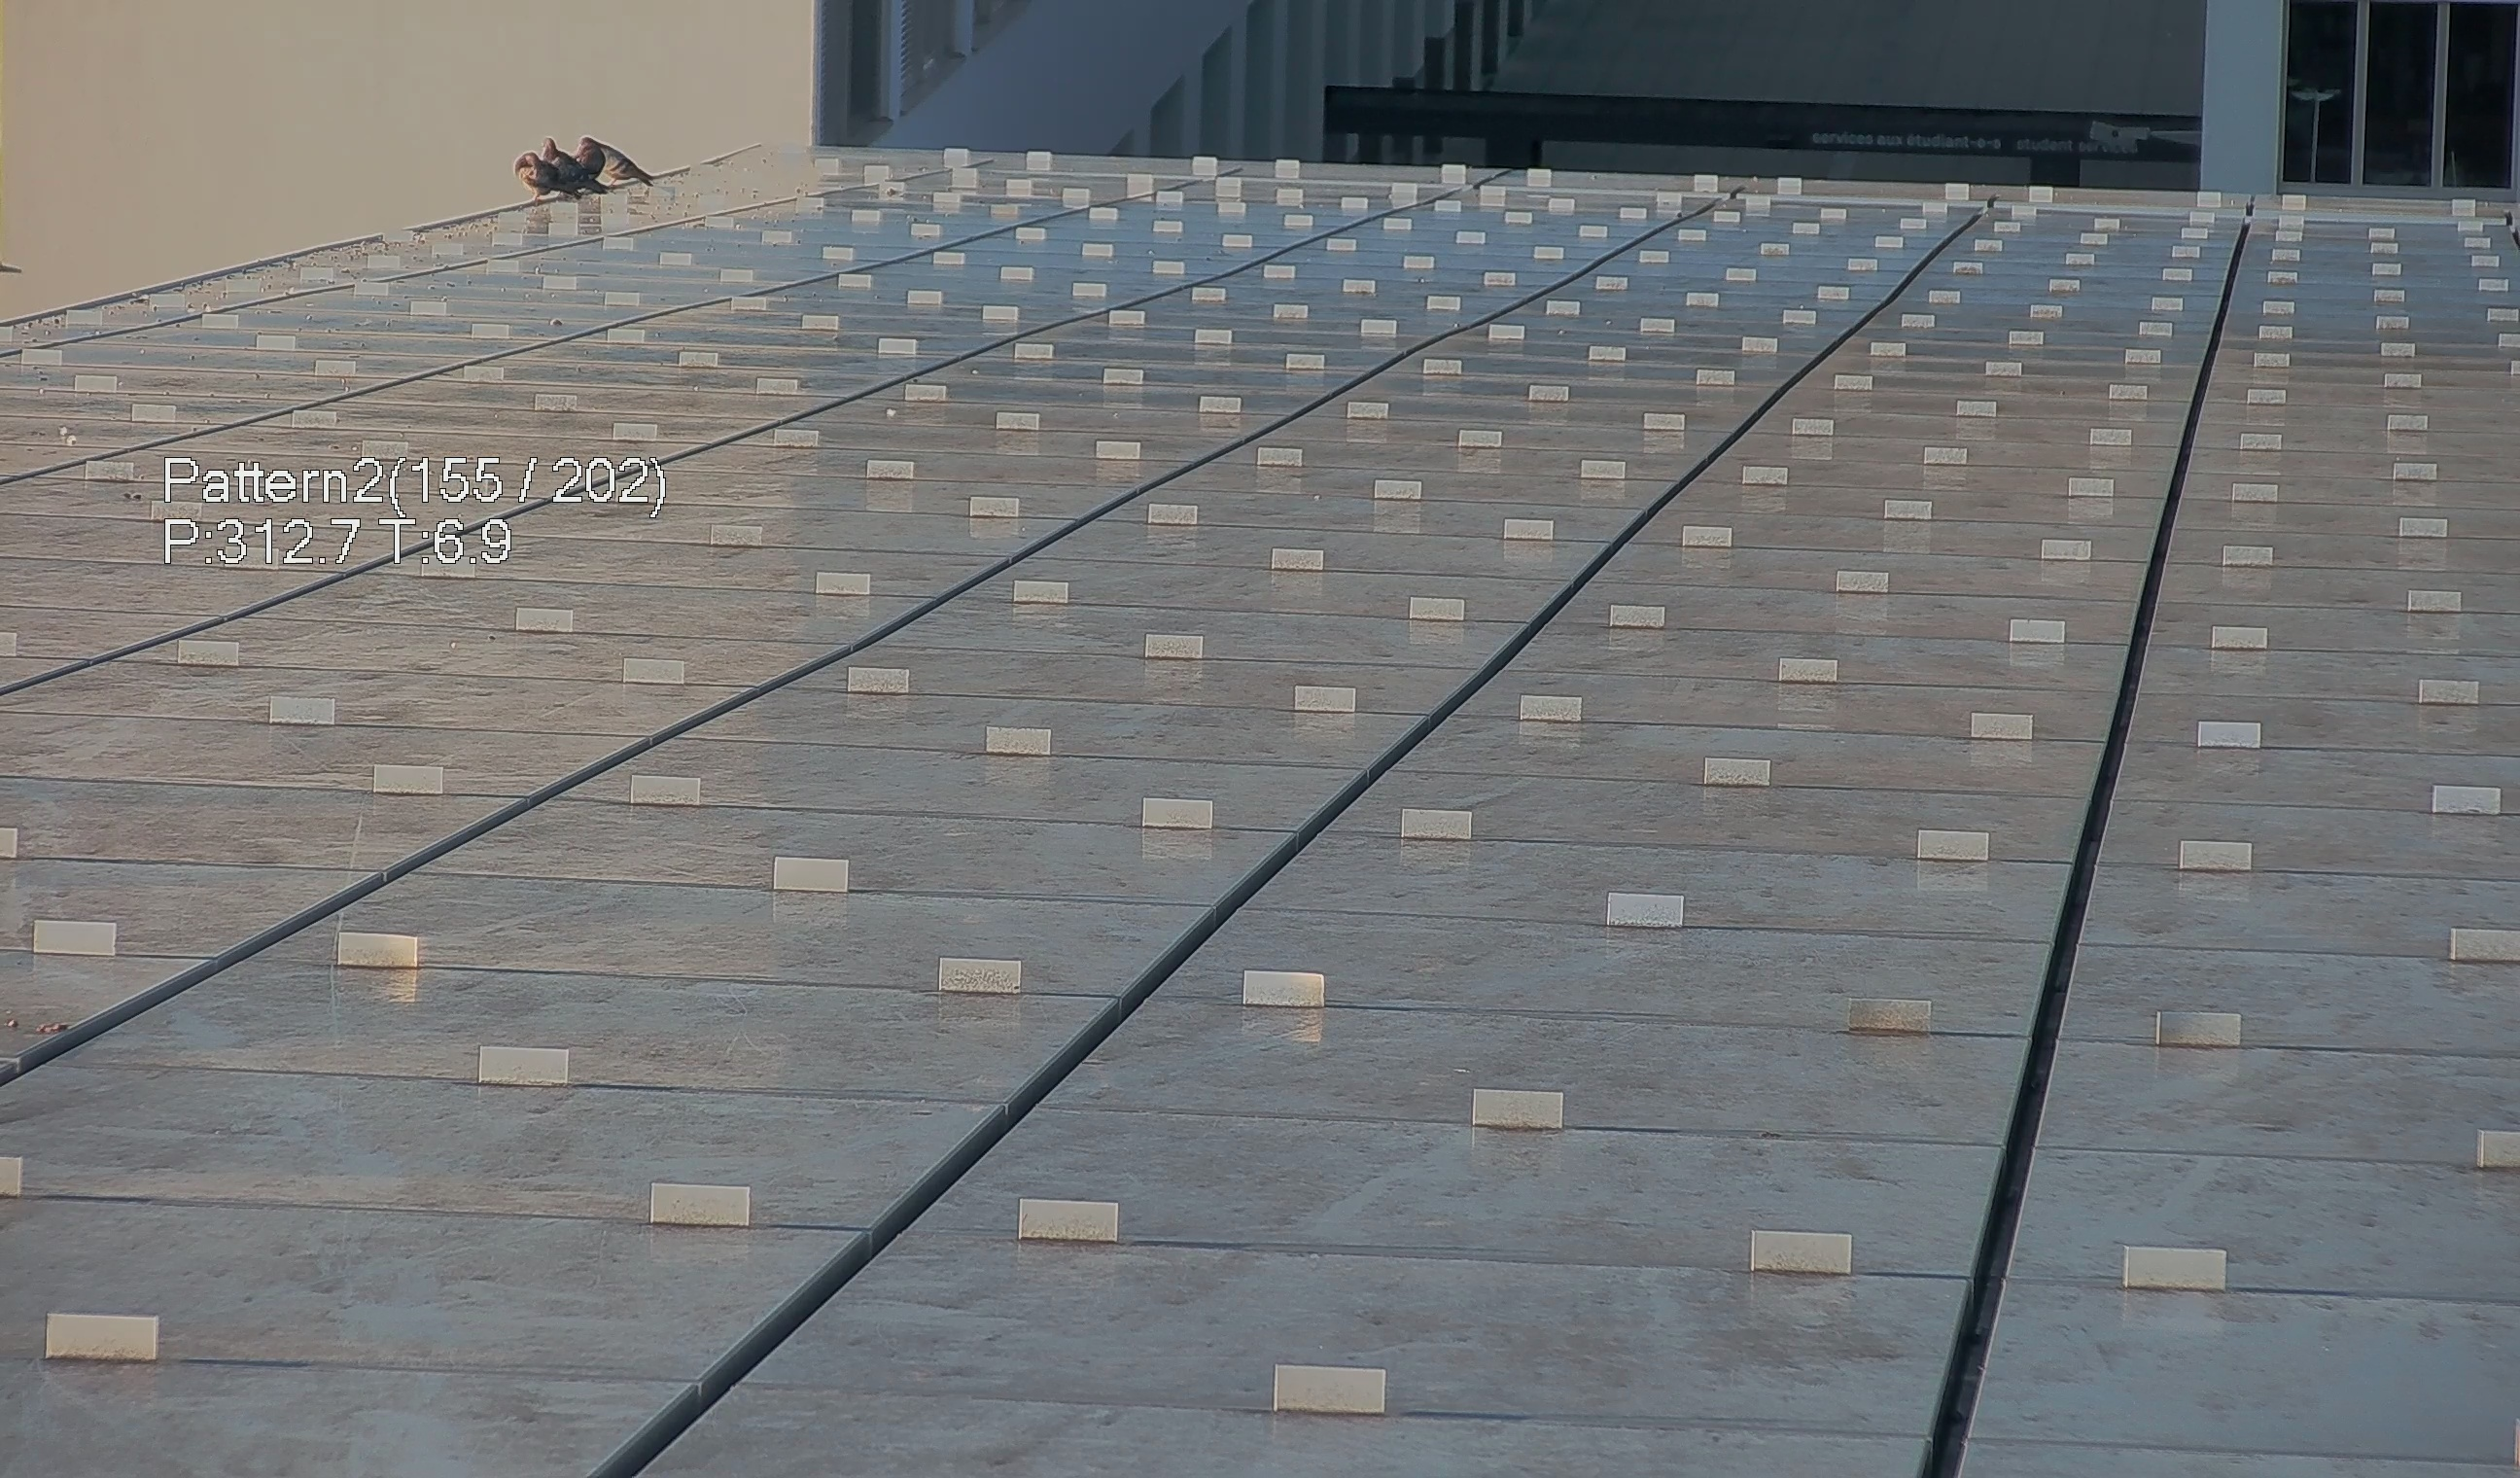Pigeon: (540, 137, 605, 192), (580, 134, 649, 185), (506, 153, 575, 202)
